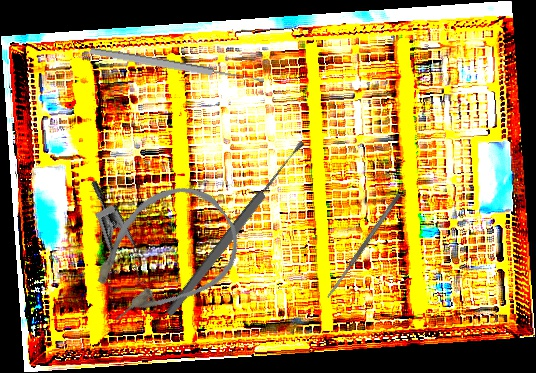Cannula: (69, 167, 256, 344)
Spatula Surgical: (324, 192, 403, 300)
Speculum: (50, 177, 166, 304)
Surgical Spoon: (163, 138, 309, 319), (89, 45, 265, 87)
